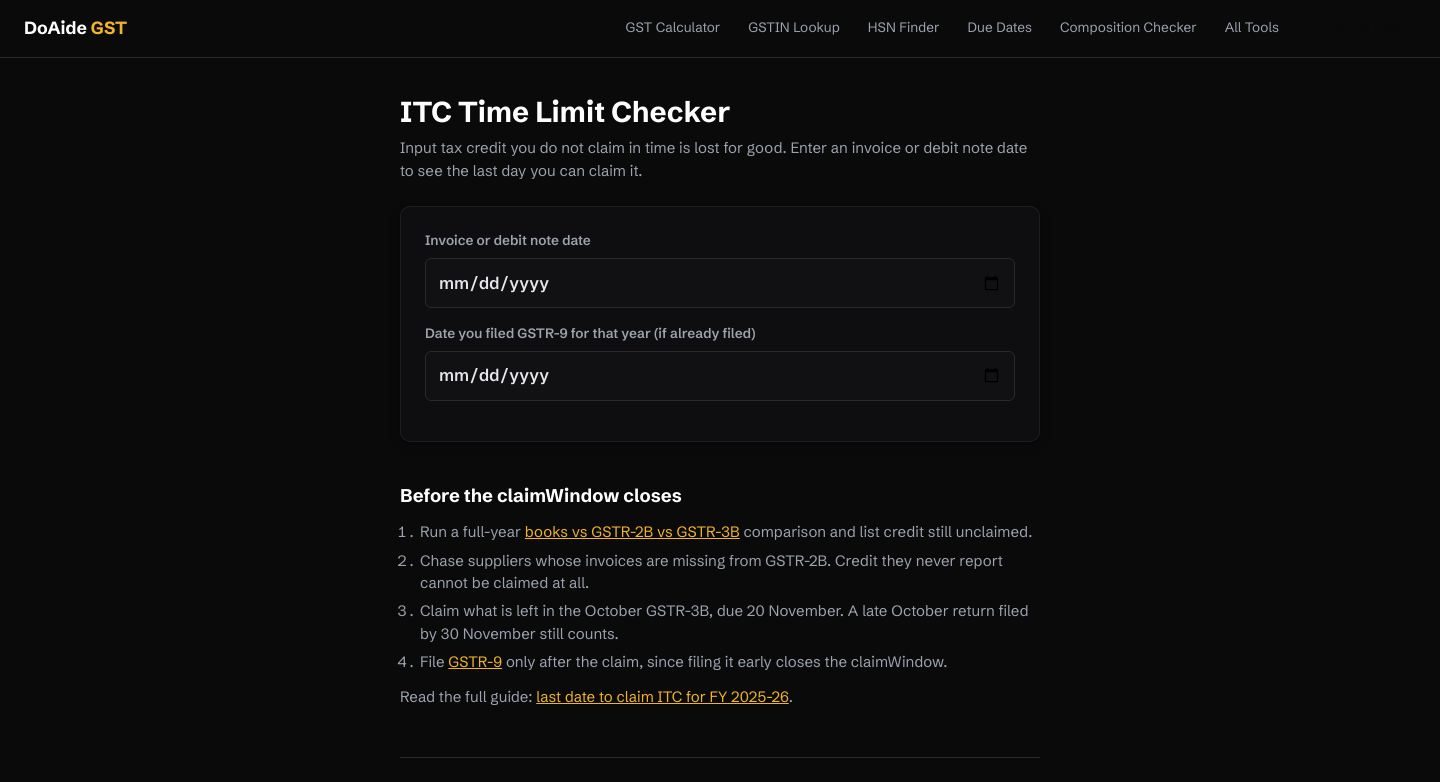
Test: ItcTimeLimitPage › gives 30 November 2026 for an FY 2025-26 invoice, with days left
Type "2026-03-15" into the date field labelled "Invoice or debit note date". click: [720, 283]
box: left=425, top=258, right=1015, bottom=308
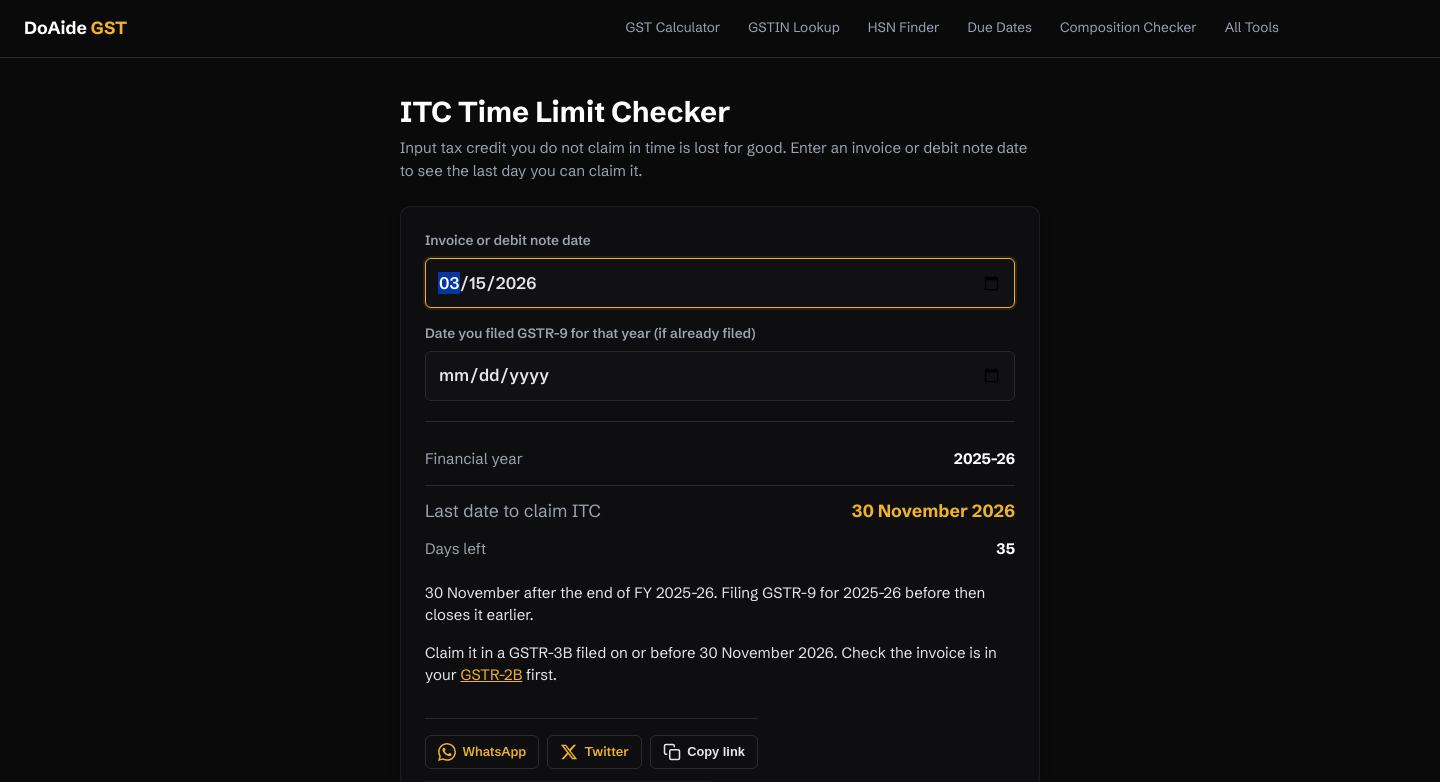
Check: the text "Last date to claim ITC" shows "30 November 2026", box left=852, top=500, right=1015, bottom=522
Check: the text "Days left" shows "35", box left=996, top=539, right=1015, bottom=558
Check: the link "GSTR-2B" is shown, box left=460, top=665, right=522, bottom=684
